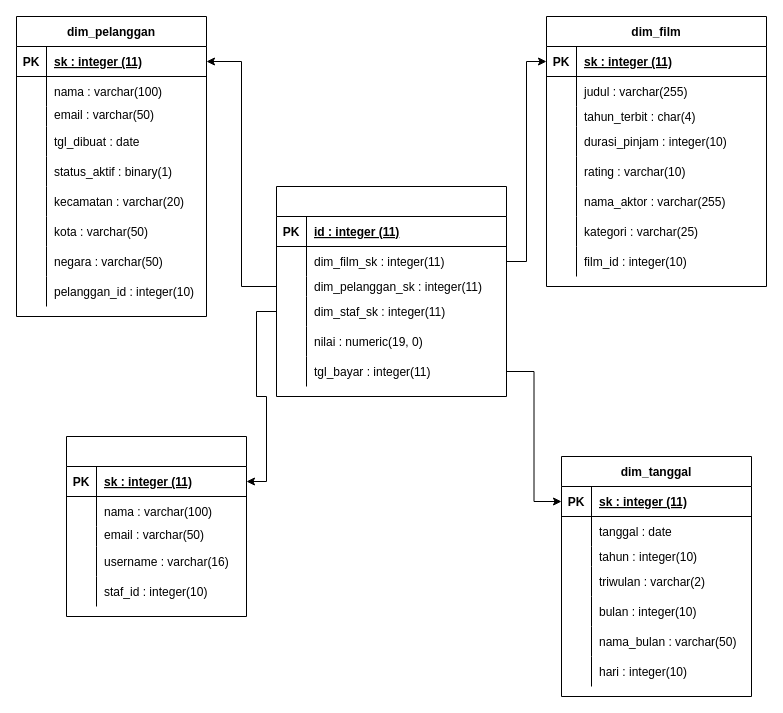
Some shapes in this 783 by 713 pixel diagram are drawn without their labels. The shapes that lost their labels are listed below. From the top down, each one's box as (x1, y1, x2, y2) in pixels, then its label:
(276, 186, 506, 396): Fakta Order
(66, 436, 246, 616): dim_staff
